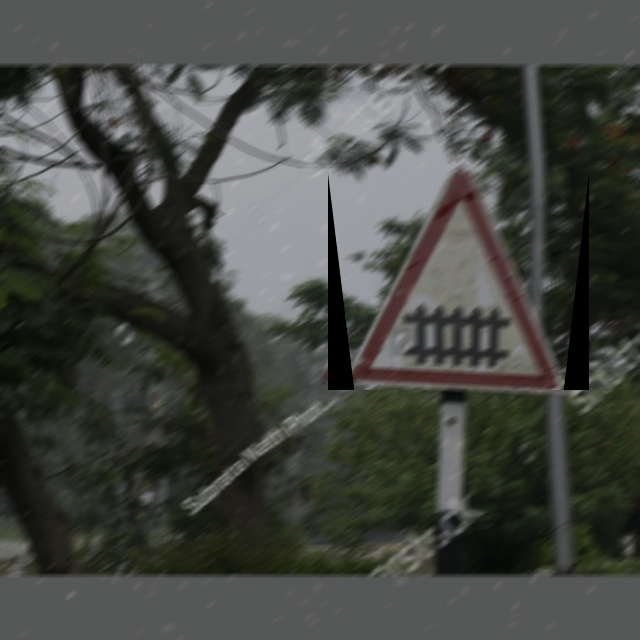Guarded_Level_Crossing: (328, 173, 589, 390)
